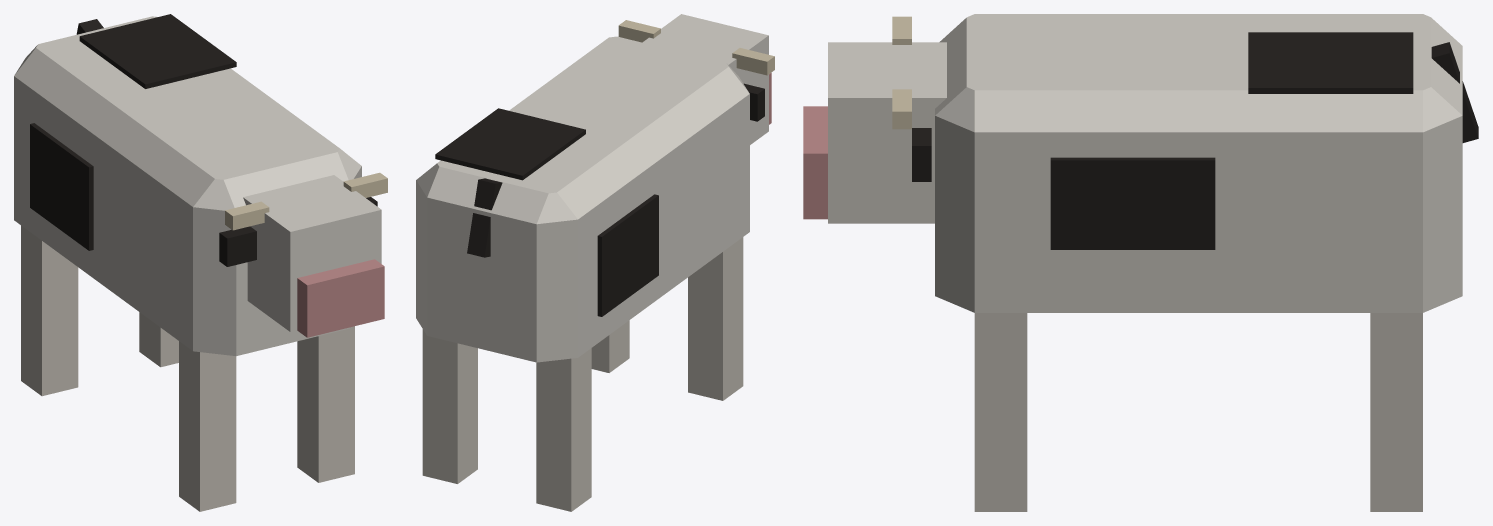
File: cow.glb
3 views of the same model, side by side, from view 1: azimuth 30°, elevation 25°; view 2: azimuth 150°, elevation 25°; view 3: azimuth 270°, elevation 25° (orthographic). The views are drawn at different scales.
Parts seen in each view (by area): view 1: cow; view 2: cow; view 3: cow.
Boxes of the visible parts, left/top/right/bottom form: cow: left=14, top=14, right=387, bottom=511; cow: left=416, top=14, right=774, bottom=511; cow: left=803, top=14, right=1478, bottom=511.
Bounding box in the file's own units: 0.0819 × 0.147 × 0.2151.
